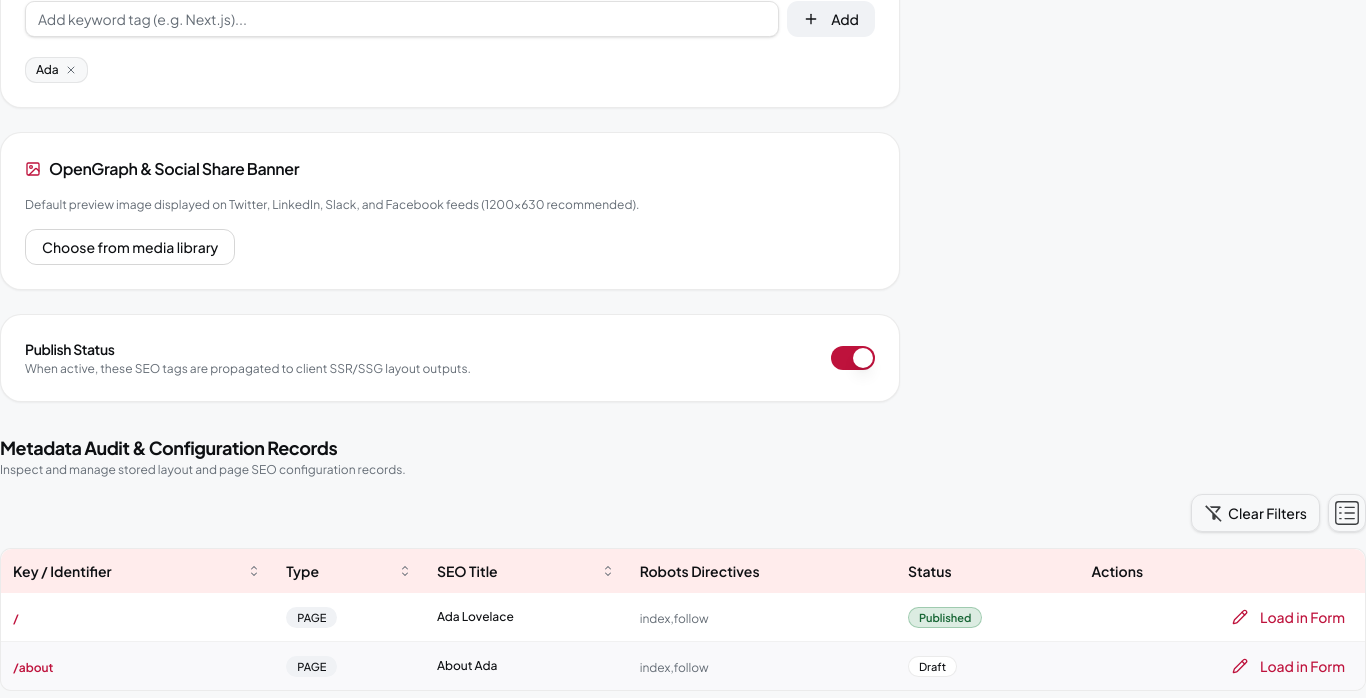
Scenario: SettingsView › loads a record from the table into the form
(page scrolled)
What coordinates should you click on to do the following:
click the button "Load in Form" in the row of "About Ada"
I would click on:
 (1288, 666)
Its box is x1=1224 y1=652 x2=1353 y2=680.
(page scrolled)
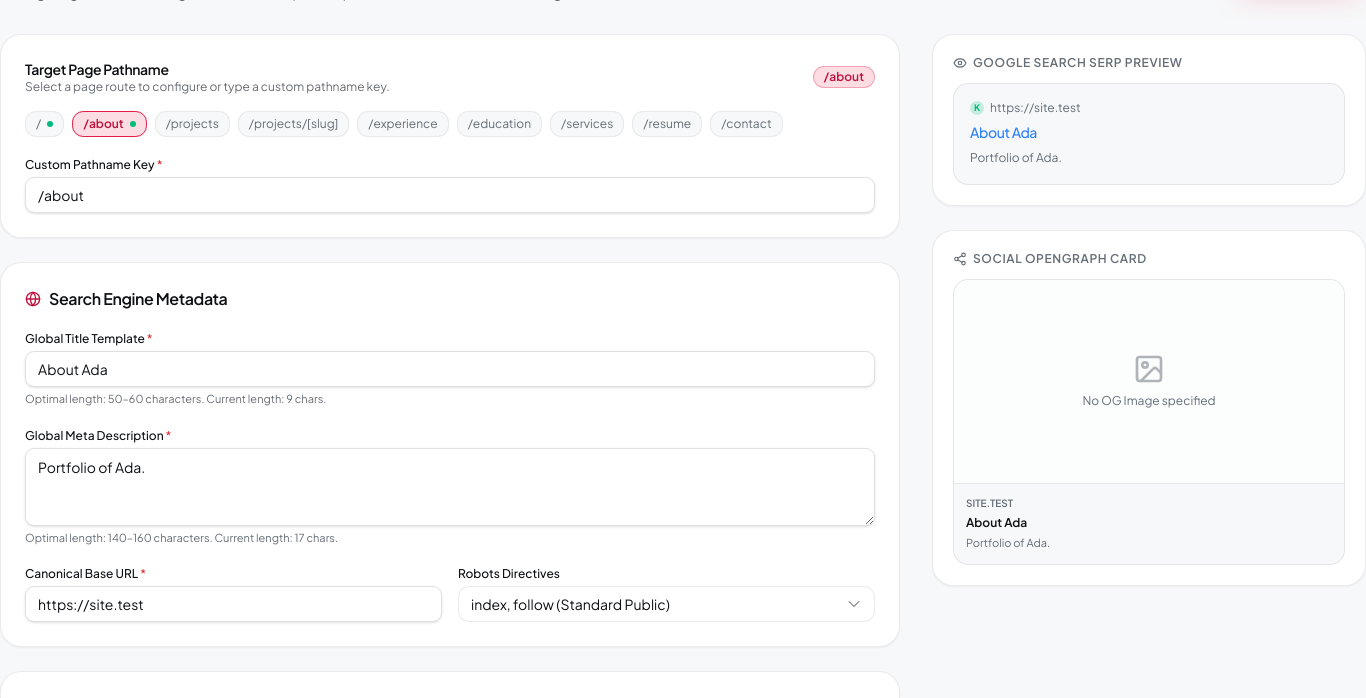
Result: the field labelled "Global Title Template" holds "About Ada" at x1=25 y1=351 x2=875 y2=387
